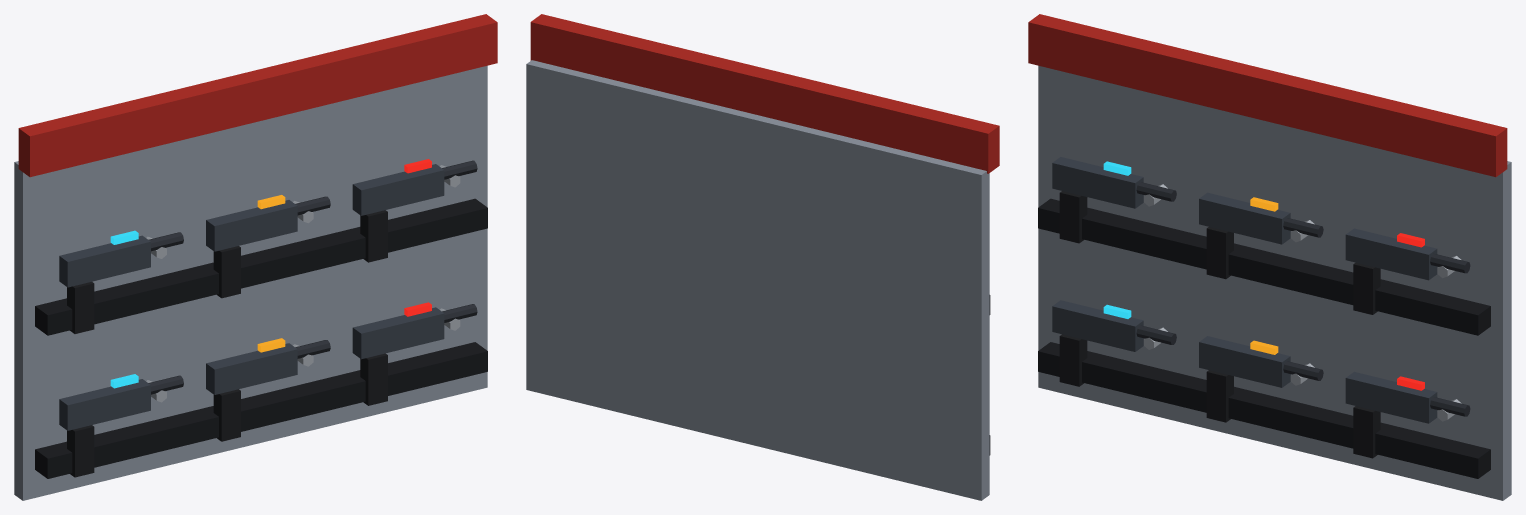
The model's file is weaponrack_pistol_rack_wall.glb.
3 renders of one model, left to right at view 1: azimuth 30°, elevation 25°; view 2: azimuth 150°, elevation 25°; view 3: azimuth 330°, elevation 25°, orthographic. The views are drawn at different scales.
Visible parts, largest first — view 1: weaponrack_pistol_rack_wall; view 2: weaponrack_pistol_rack_wall; view 3: weaponrack_pistol_rack_wall.
Boxes of the visible parts, x1,y1,x2,y2 form: weaponrack_pistol_rack_wall: (14, 14, 497, 500); weaponrack_pistol_rack_wall: (526, 14, 999, 500); weaponrack_pistol_rack_wall: (1028, 14, 1511, 500).
Bounding box in the file's own units: 0.956 × 0.725 × 0.085.
